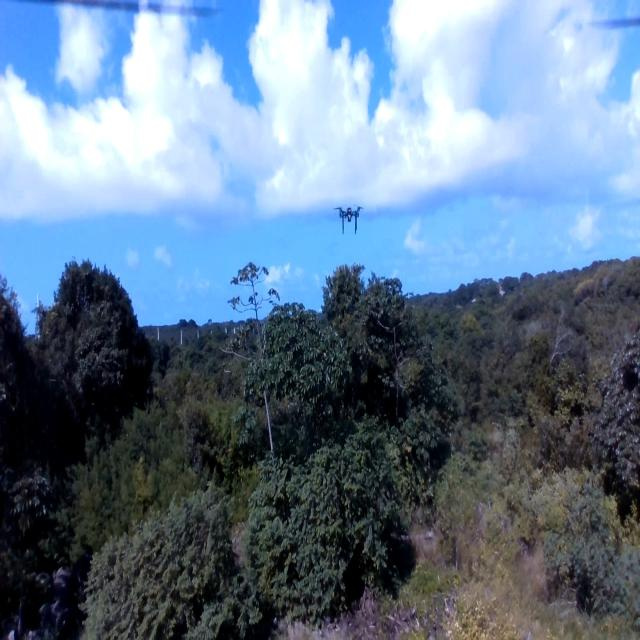-uav-: (329, 195, 368, 241)
